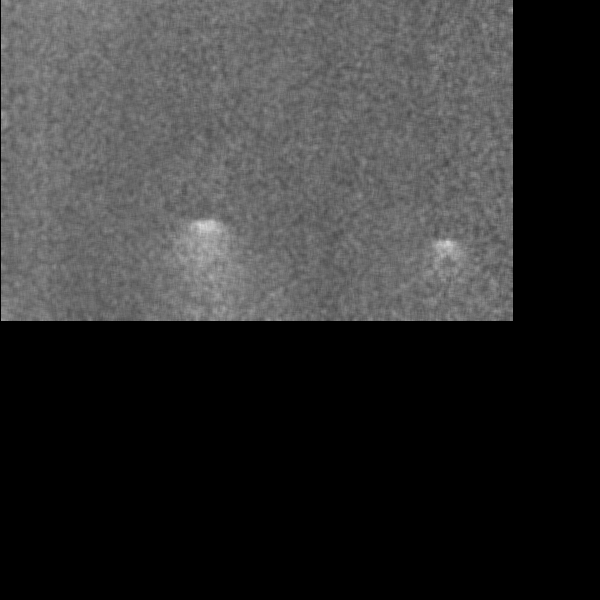spark: (182, 215, 233, 265), (432, 232, 461, 271)
